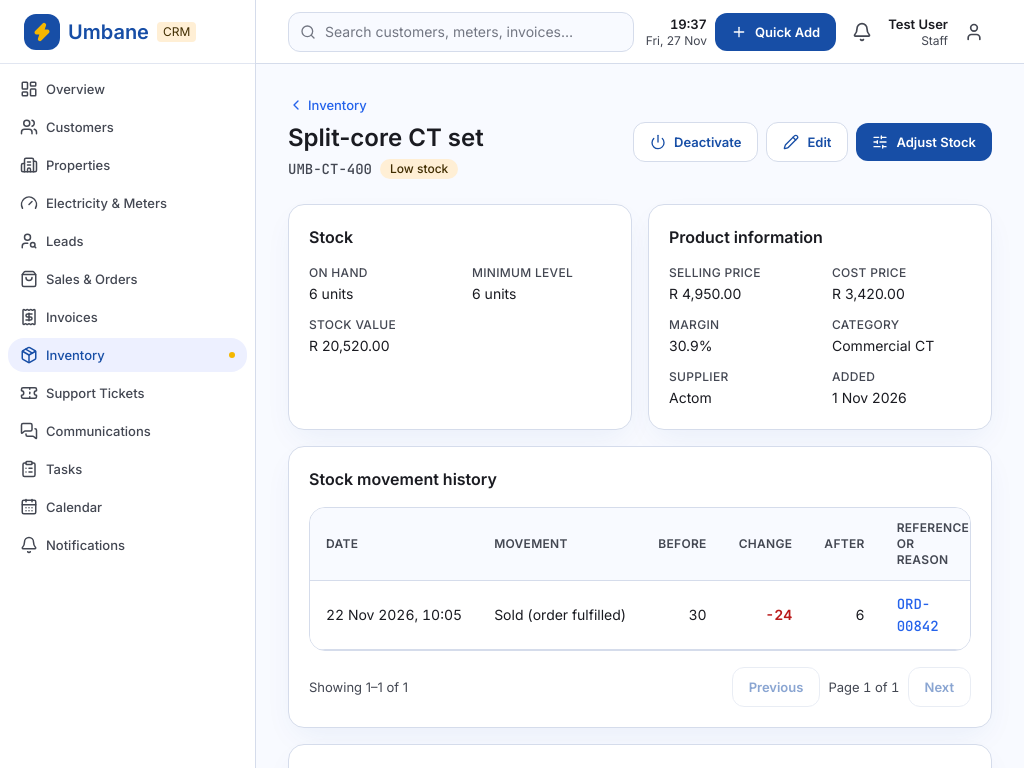
Scenario: stock movements › shows the database refusing for lack of stock on the units field
Click the button "Adjust Stock".
click(924, 142)  # box top-left (856, 123), bottom-right (992, 161)
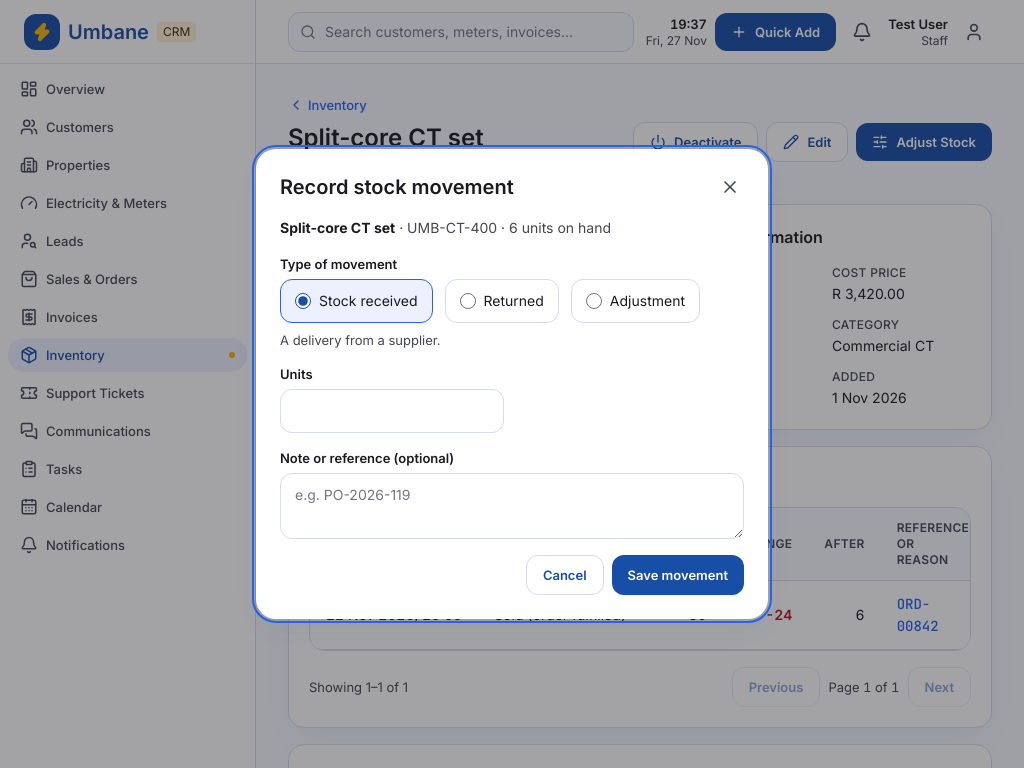
Click the radio button labelled "Adjustment".
click(594, 301)  # box top-left (586, 293), bottom-right (602, 309)
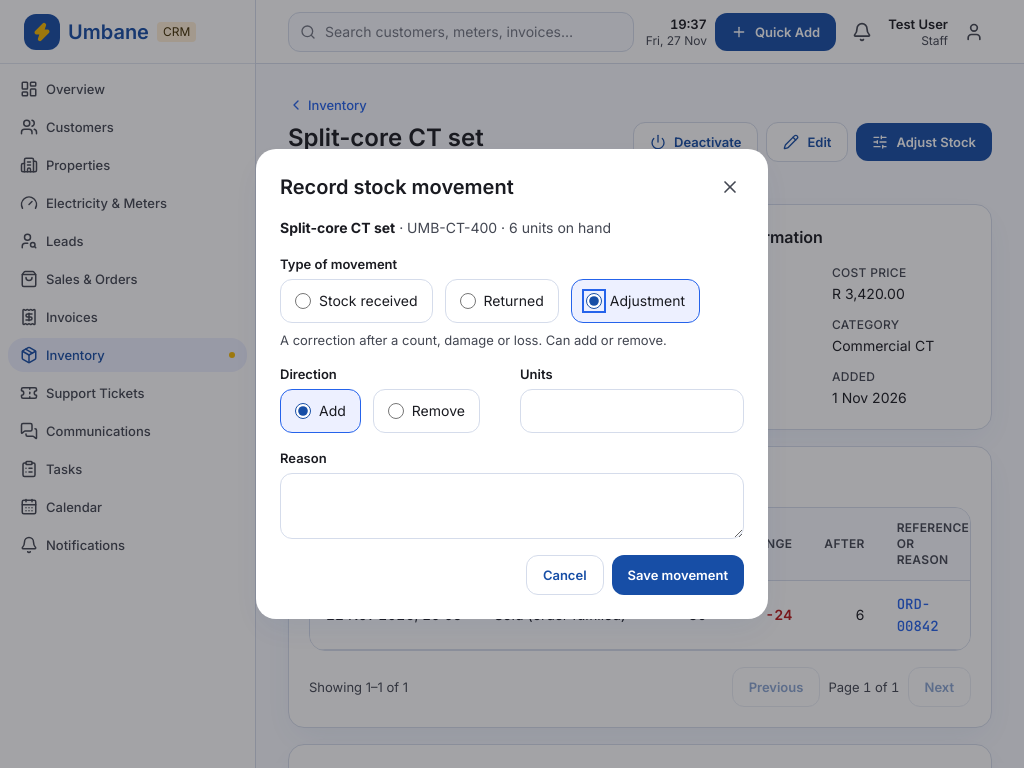
Click the radio button labelled "Remove".
click(396, 411)  # box top-left (388, 403), bottom-right (404, 419)
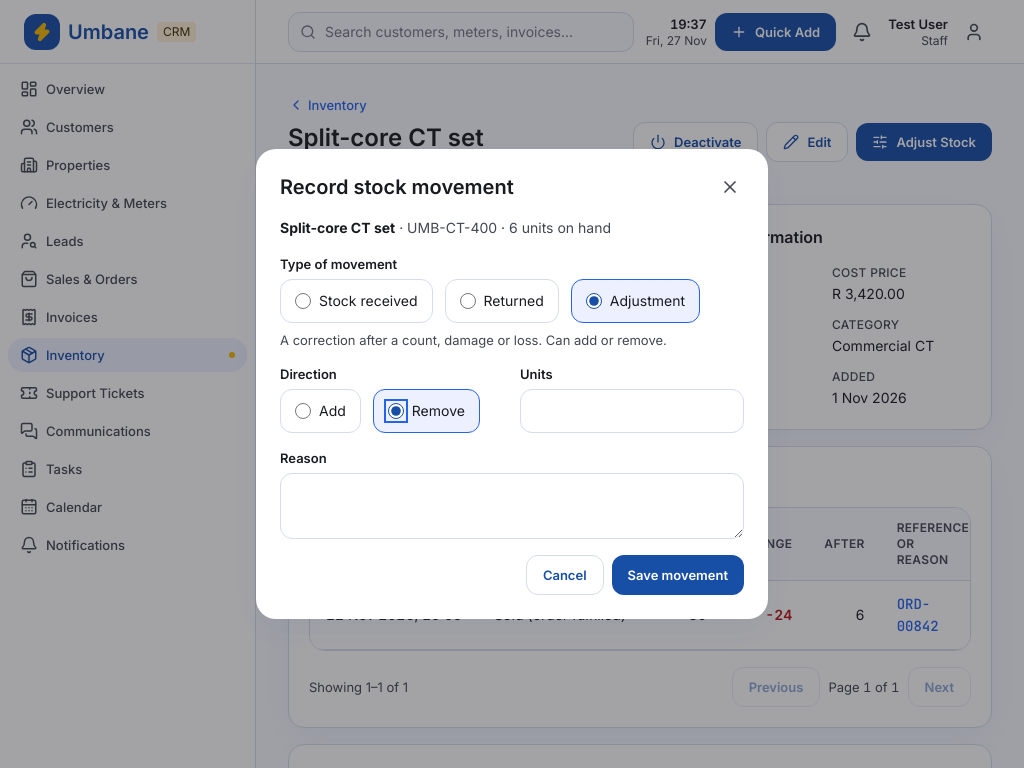
Type "6" into the field labelled "Units".
click(632, 411); type("6")  # box top-left (520, 389), bottom-right (744, 433)
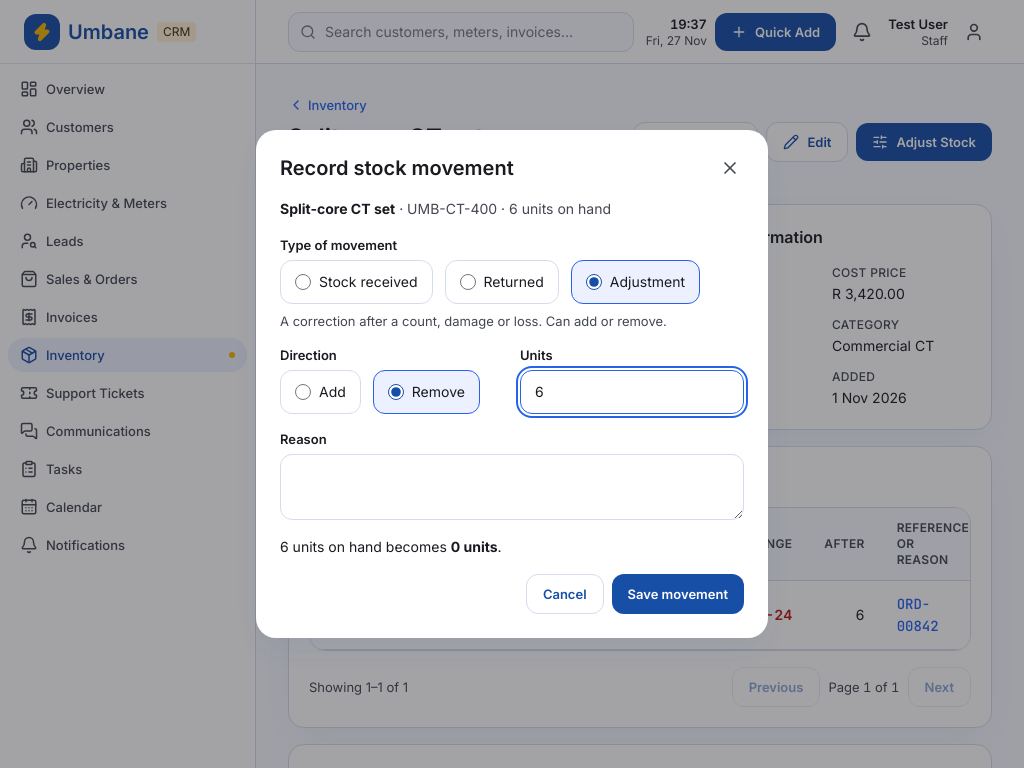
Type "Damaged in transit" into the text box labelled "Reason".
click(512, 487); type("Damaged in transit")  # box top-left (280, 454), bottom-right (744, 520)
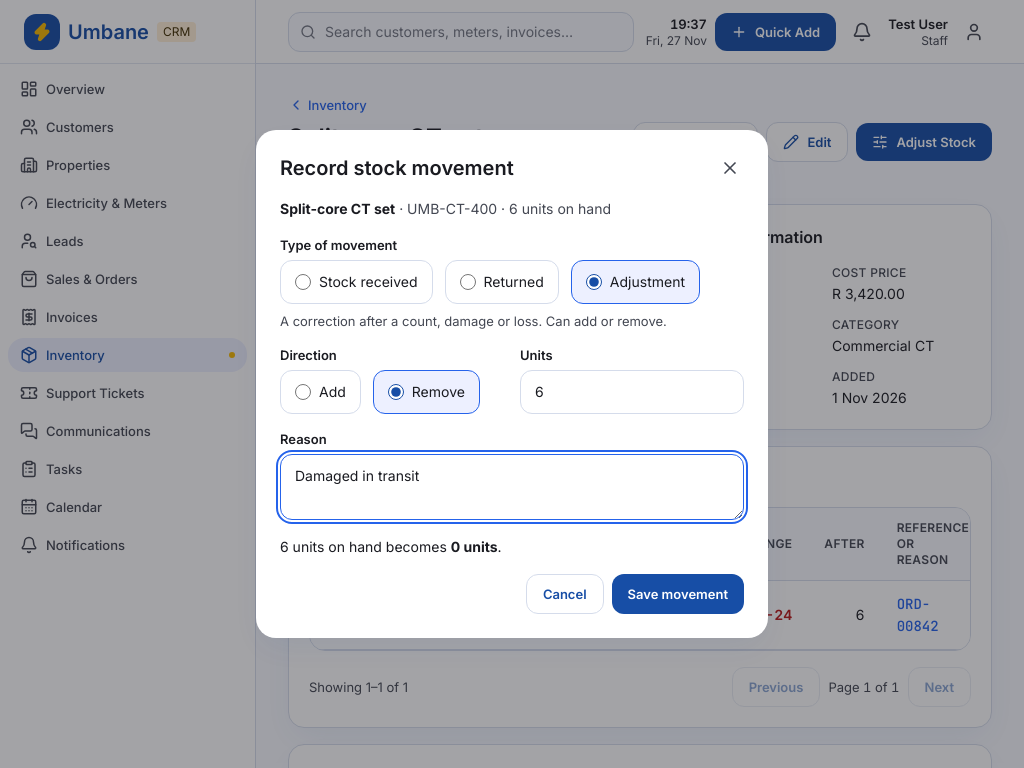
Click the button "Save movement".
click(678, 594)  # box top-left (612, 574), bottom-right (744, 614)
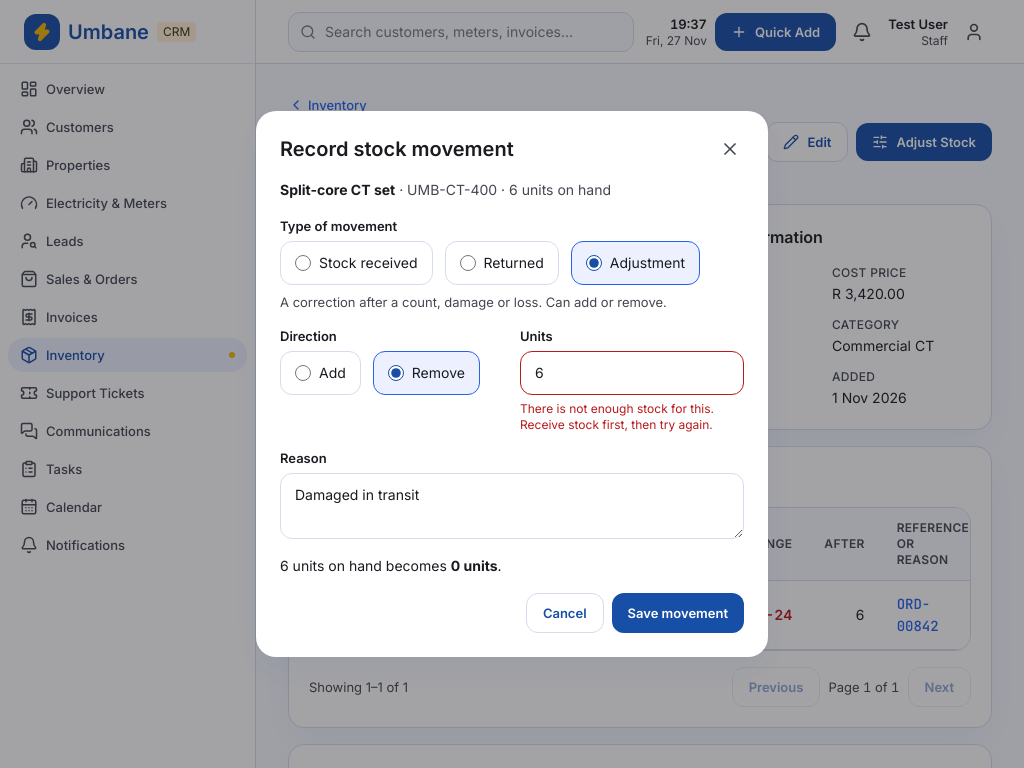
Now the text "There is not enough stock for this. Receive stock first, then try again." is shown, box top-left (520, 401), bottom-right (744, 433)
